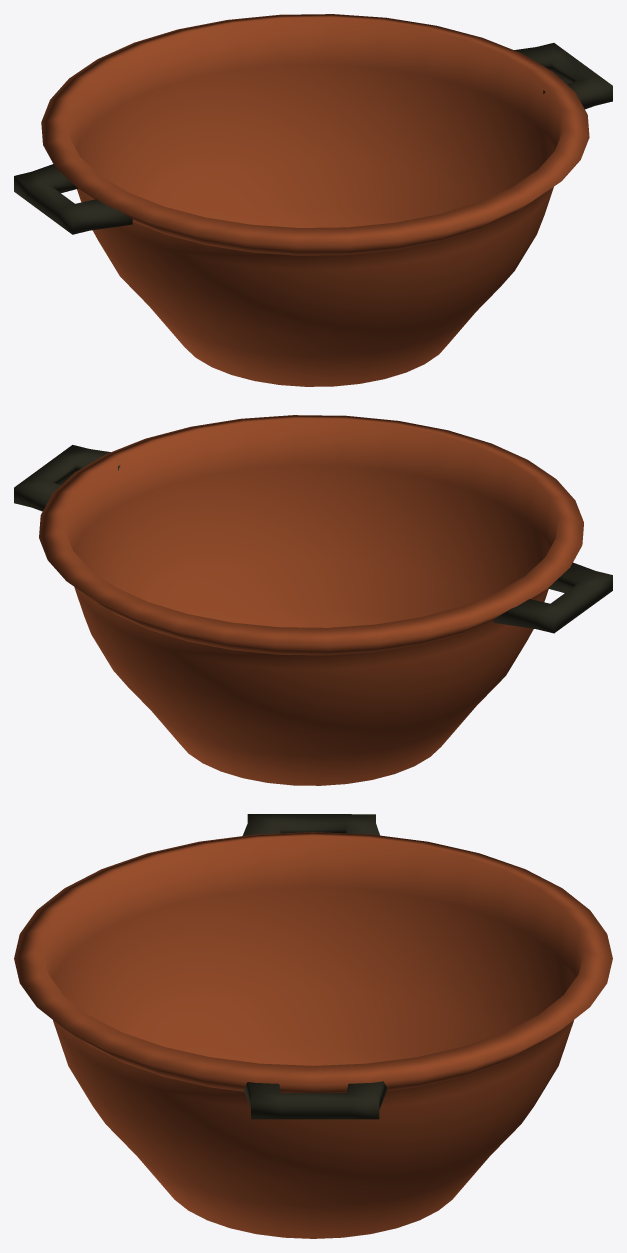
Rendered from Panela.fbx.
3 renders of one model, top to bottom at view 1: azimuth 30°, elevation 25°; view 2: azimuth 150°, elevation 25°; view 3: azimuth 270°, elevation 25°, orthographic. The views are drawn at different scales.
Parts seen in each view (by area): view 1: Sphere; view 2: Sphere; view 3: Sphere.
Boxes of the visible parts, <box> form: Sphere: <box>14,14,612,386</box>; Sphere: <box>14,415,612,785</box>; Sphere: <box>14,814,612,1238</box>.
Bounding box in the file's own units: 252 × 91.3 × 221.
